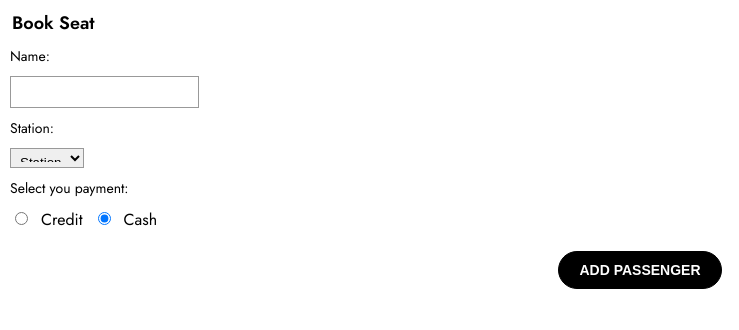
Scenario: Shows station error message
Step 1. Type "name" into the field with test id "name" → coordinates (104, 92), box 10,76 -> 199,108
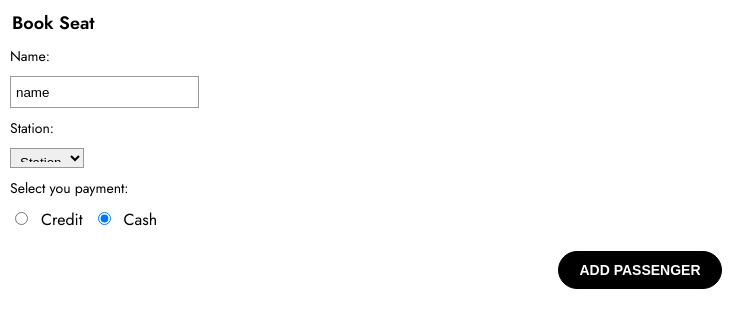
Step 2. Click the button "Add passenger" → coordinates (640, 270), box 558,251 -> 722,289
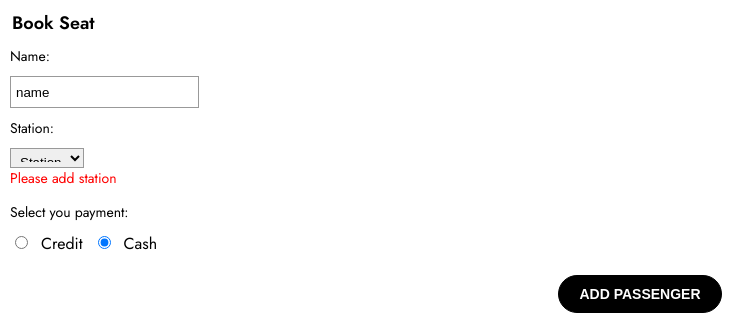
Expected: the text "Please add station" is shown, 10,168 -> 116,188
